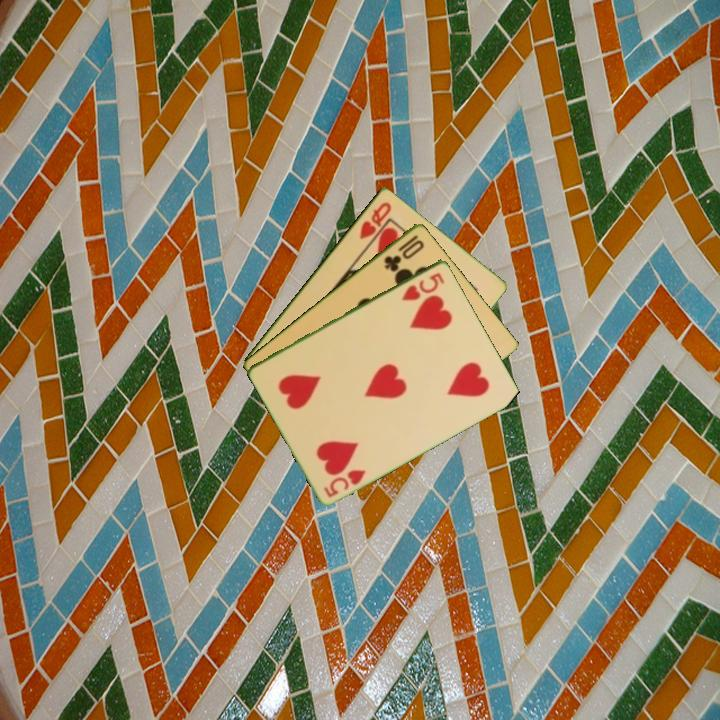10c: (380, 231, 427, 274)
5h: (320, 465, 368, 500), (398, 269, 447, 303)
Qh: (356, 198, 394, 241)
